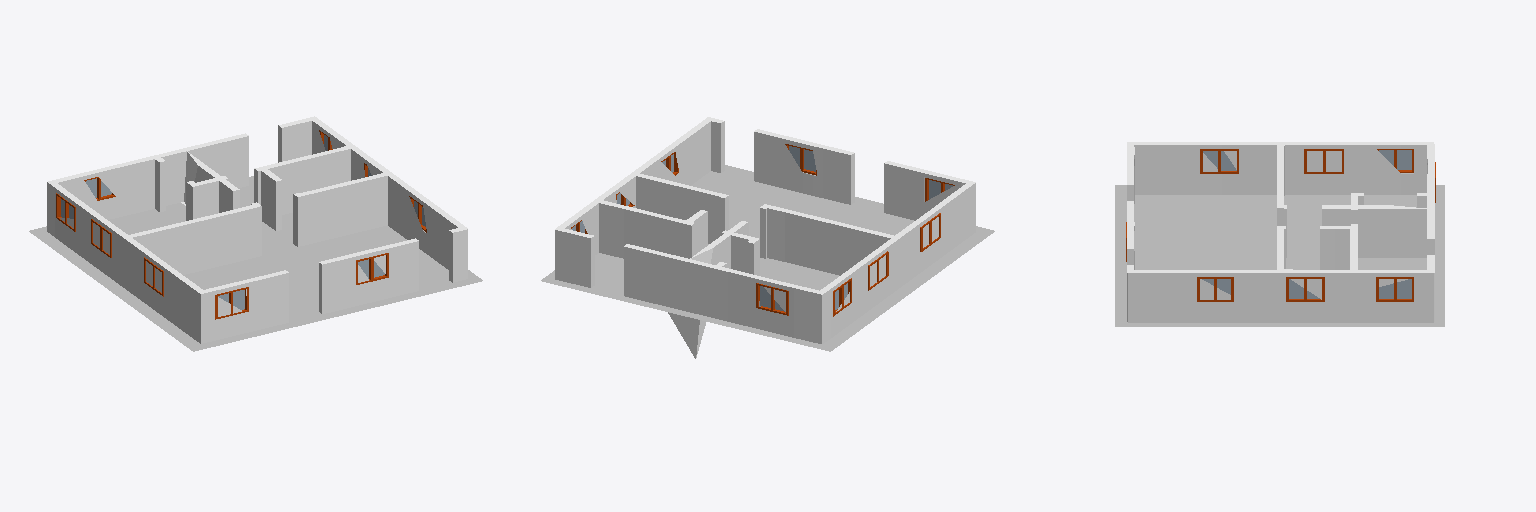
The picture shows the model from 3 angles: view 1: azimuth 30°, elevation 25°; view 2: azimuth 150°, elevation 25°; view 3: azimuth 270°, elevation 25°; orthographic projection.
Parts seen in each view (by area): view 1: Curve_Curve.112, window_Cube.004_Cube.336, window_Cube.004_Cube.335; view 2: Curve_Curve.112, window_Cube.004_Cube.338, window_Cube.004_Cube.335; view 3: Curve_Curve.112, window_Cube.004_Cube.334, window_Cube.004_Cube.341, window_Cube.004_Cube.339, window_Cube.004_Cube.337, window_Cube.004_Cube.340.
Boxes of the visible parts, <box> form: Curve_Curve.112: <box>29,116,482,351</box>; window_Cube.004_Cube.336: <box>215,287,248,319</box>; window_Cube.004_Cube.335: <box>356,253,388,284</box>; Curve_Curve.112: <box>541,117,994,358</box>; window_Cube.004_Cube.338: <box>756,283,788,315</box>; window_Cube.004_Cube.335: <box>785,144,816,175</box>; Curve_Curve.112: <box>1115,142,1444,326</box>; window_Cube.004_Cube.334: <box>1376,277,1413,301</box>; window_Cube.004_Cube.341: <box>1200,149,1238,173</box>; window_Cube.004_Cube.339: <box>1286,277,1324,301</box>; window_Cube.004_Cube.337: <box>1377,149,1413,172</box>; window_Cube.004_Cube.340: <box>1197,277,1233,301</box>.
Size of the model in its own units: 0.916 by 0.3 by 0.902.